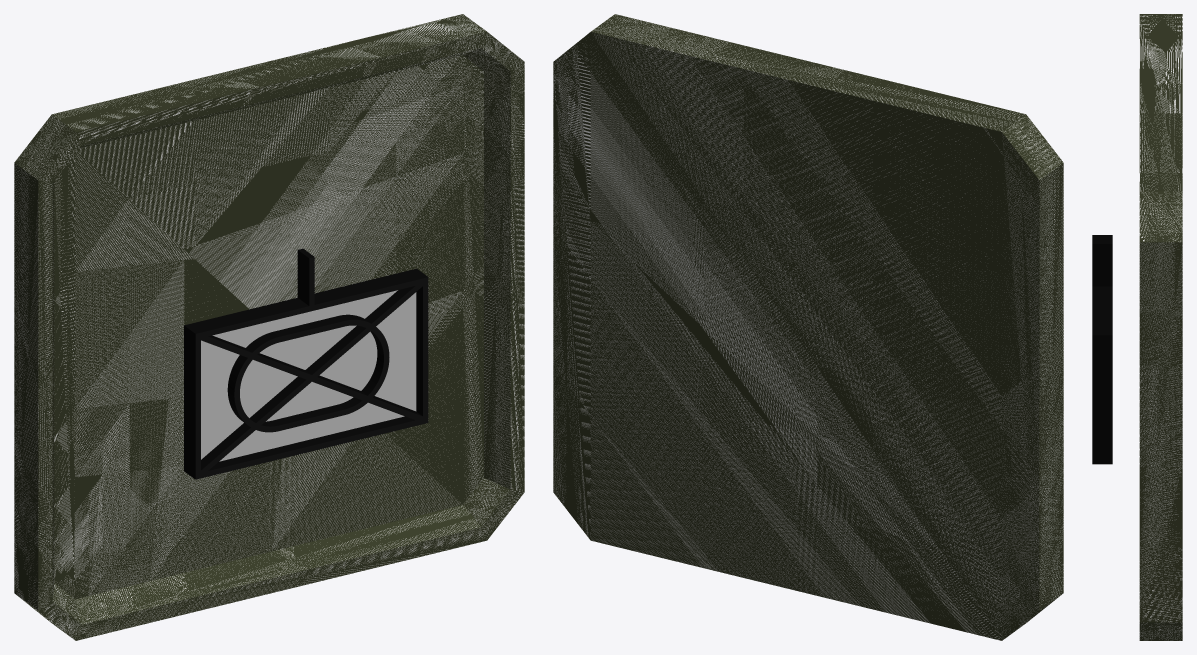
Rendered from ORBAT_-_2.obj.
The picture shows the model from 3 angles, left to right: view 1: azimuth 30°, elevation 25°; view 2: azimuth 150°, elevation 25°; view 3: azimuth 270°, elevation 25°; orthographic projection. The views are drawn at different scales.
Parts seen in each view (by area): view 1: Button.001_ID13, Button_ID3, SM_ORBAT_-_2_path1763-2.105; view 2: Button_ID3; view 3: Button_ID3, SM_ORBAT_-_2_path1763-2.105.
Boxes of the visible parts, x1,y1,x2,y2 form: Button.001_ID13: (52,48,510,624); Button_ID3: (14,14,524,640); SM_ORBAT_-_2_path1763-2.105: (184,248,428,479); Button_ID3: (553,14,1063,640); Button_ID3: (1139,14,1182,640); SM_ORBAT_-_2_path1763-2.105: (1092,235,1112,464).
Size of the model in its own units: 1 by 1 by 0.1819.
